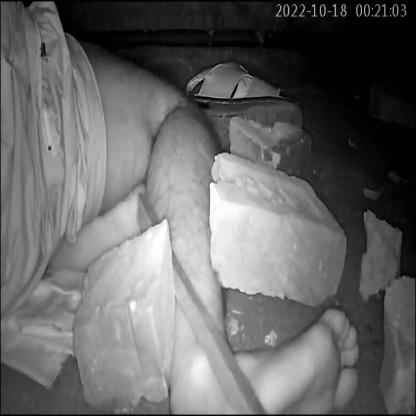leg: (97, 48, 372, 416)
